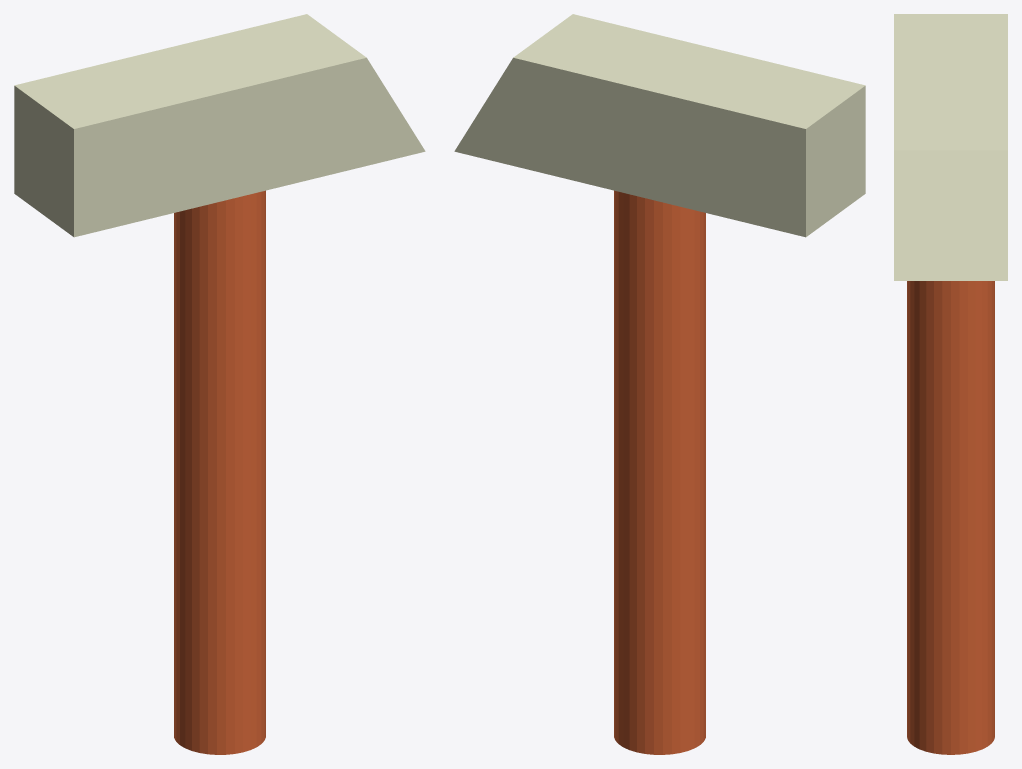
File: hammer.fbx
3 renders of one model, left to right at view 1: azimuth 30°, elevation 25°; view 2: azimuth 150°, elevation 25°; view 3: azimuth 270°, elevation 25°, orthographic. The views are drawn at different scales.
Visible parts, largest first — view 1: Cube, Cylinder; view 2: Cube, Cylinder; view 3: Cylinder, Cube.
Part boxes in pixels (left/top/right/bottom): Cube: left=14, top=14, right=425, bottom=237; Cylinder: left=174, top=190, right=265, bottom=754; Cube: left=454, top=14, right=865, bottom=237; Cylinder: left=614, top=190, right=705, bottom=754; Cylinder: left=907, top=281, right=994, bottom=754; Cube: left=894, top=14, right=1007, bottom=280.
Size of the model in its own units: 36.28 by 66.15 by 10.67.
